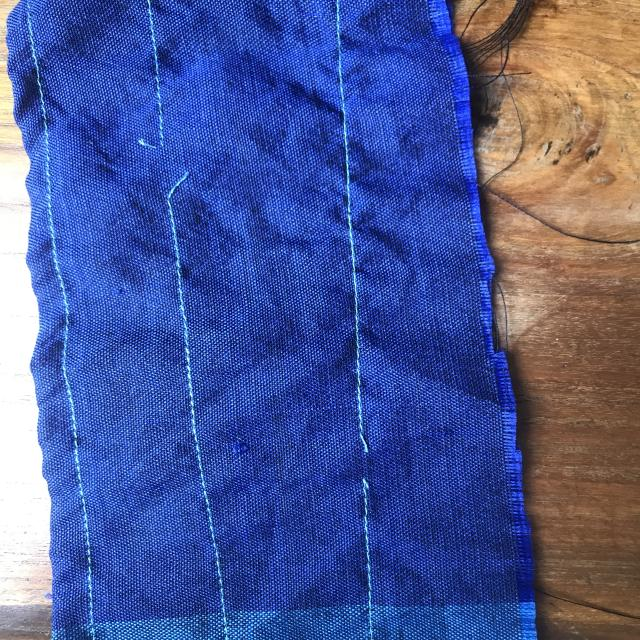broken: (121, 123, 197, 211), (322, 423, 397, 510)
